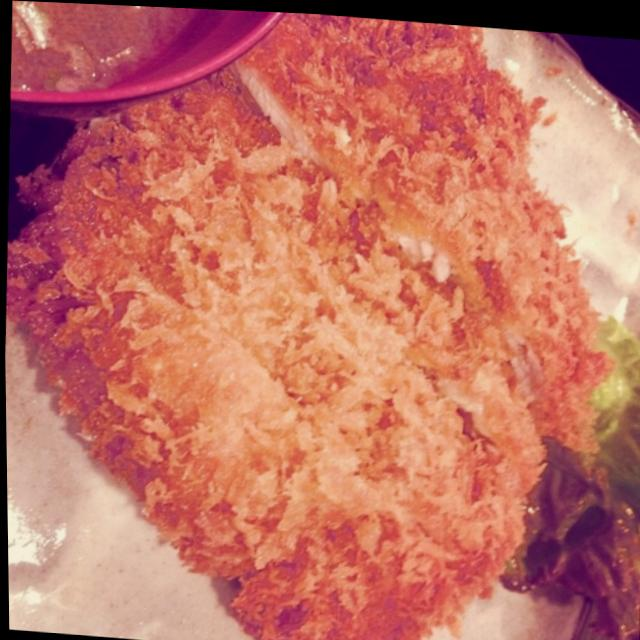鸡肉料理 含炸鸡: (19, 1, 628, 640)
